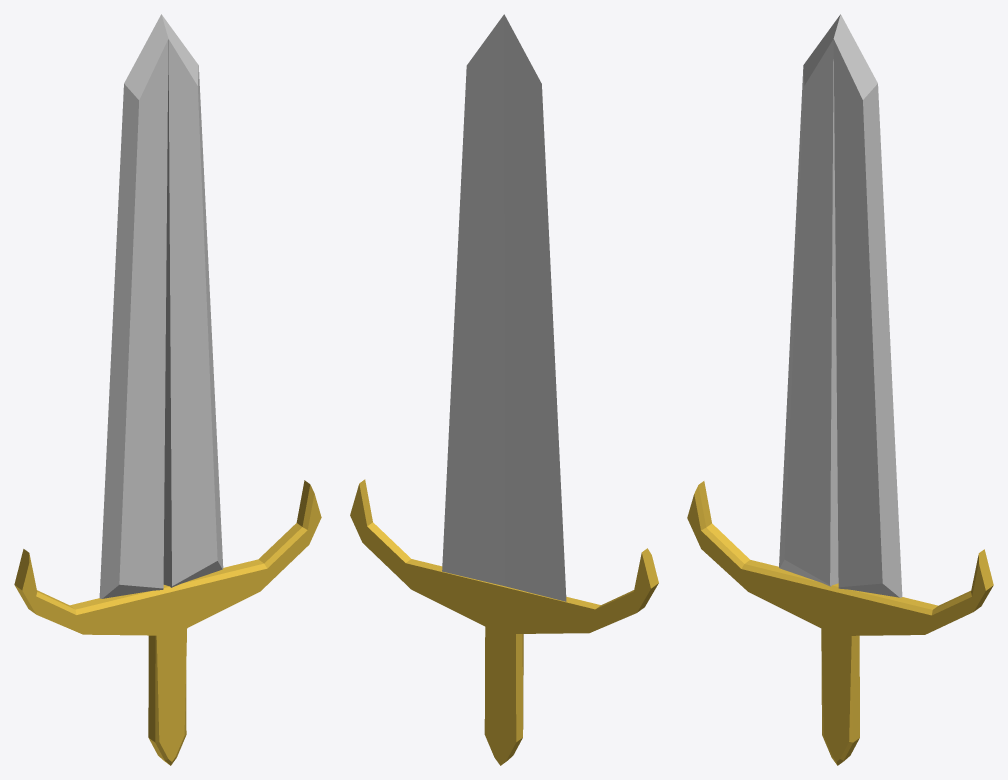
File: Dagger.fbx
3 renders of one model, left to right at view 1: azimuth 30°, elevation 25°; view 2: azimuth 150°, elevation 25°; view 3: azimuth 330°, elevation 25°, orthographic.
Visible parts, largest first — view 1: Dagger; view 2: Dagger; view 3: Dagger.
Part boxes in pixels (left/top/right/bottom): Dagger: left=14, top=14, right=321, bottom=765; Dagger: left=350, top=14, right=658, bottom=765; Dagger: left=687, top=14, right=993, bottom=765.
Bounding box in the file's own units: 317 × 758 × 14.52.
